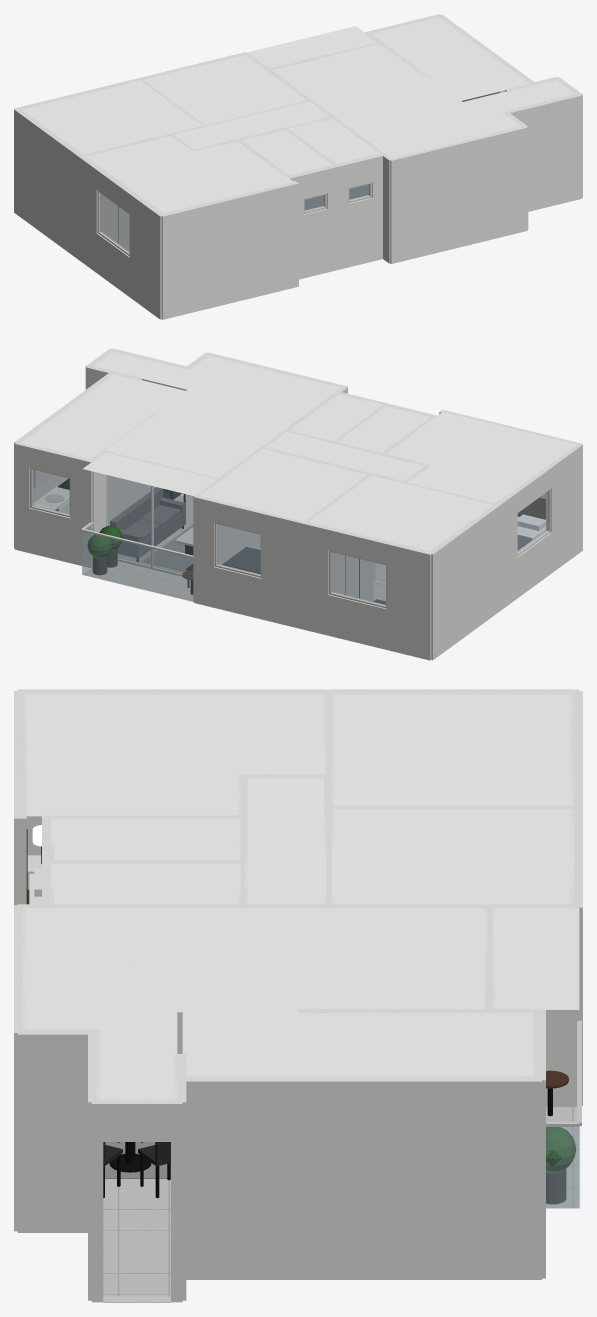
Rendered from modelo_moderno.glb.
3 views of the same model, one above another, from view 1: azimuth 30°, elevation 25°; view 2: azimuth 150°, elevation 25°; view 3: azimuth 270°, elevation 25° (orthographic). The views are drawn at different scales.
Visible parts, largest first — view 1: Parede_P03, Parede_P05, Teto_Sala estar/jantar, Parede_P02.003, Teto_Suíte, Teto_Quarto 1, Teto_Quarto 2, Teto_Cozinha, Parede_P07, Parede_P02, Teto_Circulação, Teto_Varanda (+17 smaller); view 2: Teto_Sala estar/jantar, Parede_P02.003, Teto_Suíte, Teto_Quarto 1, Parede_P01.003, Teto_Quarto 2, Teto_Cozinha, Vidro_P15, Parede_P01, GuardaCorpo_vidro, Parede_P02, Teto_Circulação (+34 smaller); view 3: Parede_P10, Teto_Sala estar/jantar, Teto_Suíte, Teto_Quarto 1, Teto_Quarto 2, Teto_Cozinha, Parede_P06, Teto_Circulação, Teto_Varanda, Teto_Banheiro suíte, Teto_Banheiro social, Teto_Hall de entrada (+25 smaller).
Part boxes in pixels (box(x1,y1,x2,y2)): Parede_P03: box(160, 181, 298, 319); Parede_P05: box(388, 125, 527, 263); Teto_Sala estar/jantar: box(272, 44, 520, 158); Parede_P02.003: box(14, 108, 102, 272); Teto_Suíte: box(86, 136, 293, 213); Teto_Quarto 1: box(22, 80, 201, 154); Teto_Quarto 2: box(144, 55, 306, 125); Teto_Cozinha: box(371, 17, 530, 100); Parede_P07: box(503, 93, 582, 211); Parede_P02: box(129, 193, 164, 319); Teto_Circulação: box(173, 101, 329, 149); Teto_Varanda: box(247, 26, 377, 68); Teto_Sala estar/jantar: box(105, 356, 340, 477); Parede_P02.003: box(427, 491, 517, 660); Teto_Suíte: box(387, 412, 576, 503); Teto_Quarto 1: box(309, 476, 493, 551); Parede_P01.003: box(261, 511, 331, 635); Teto_Quarto 2: box(200, 449, 366, 521); Teto_Cozinha: box(21, 374, 185, 458); Vidro_P15: box(108, 475, 192, 573); Parede_P01: box(386, 541, 433, 660); GuardaCorpo_vidro: box(82, 532, 193, 601); Parede_P02: box(546, 443, 582, 572); Teto_Circulação: box(265, 432, 424, 481); Parede_P10: box(177, 1076, 541, 1279); Teto_Sala estar/jantar: box(23, 908, 487, 1030); Teto_Suíte: box(23, 693, 326, 816); Teto_Quarto 1: box(331, 693, 573, 805); Teto_Quarto 2: box(331, 808, 573, 904); Teto_Cozinha: box(182, 1012, 537, 1076); Parede_P06: box(17, 1029, 96, 1232); Teto_Circulação: box(245, 777, 326, 904); Teto_Varanda: box(492, 907, 579, 1009); Teto_Banheiro suíte: box(51, 818, 240, 859); Teto_Banheiro social: box(51, 863, 240, 904); Teto_Hall de entrada: box(97, 1030, 177, 1100).
Size of the model in its own units: 11.66 by 2.6 by 6.76.
Materials: 24 (2 with a texture image).
